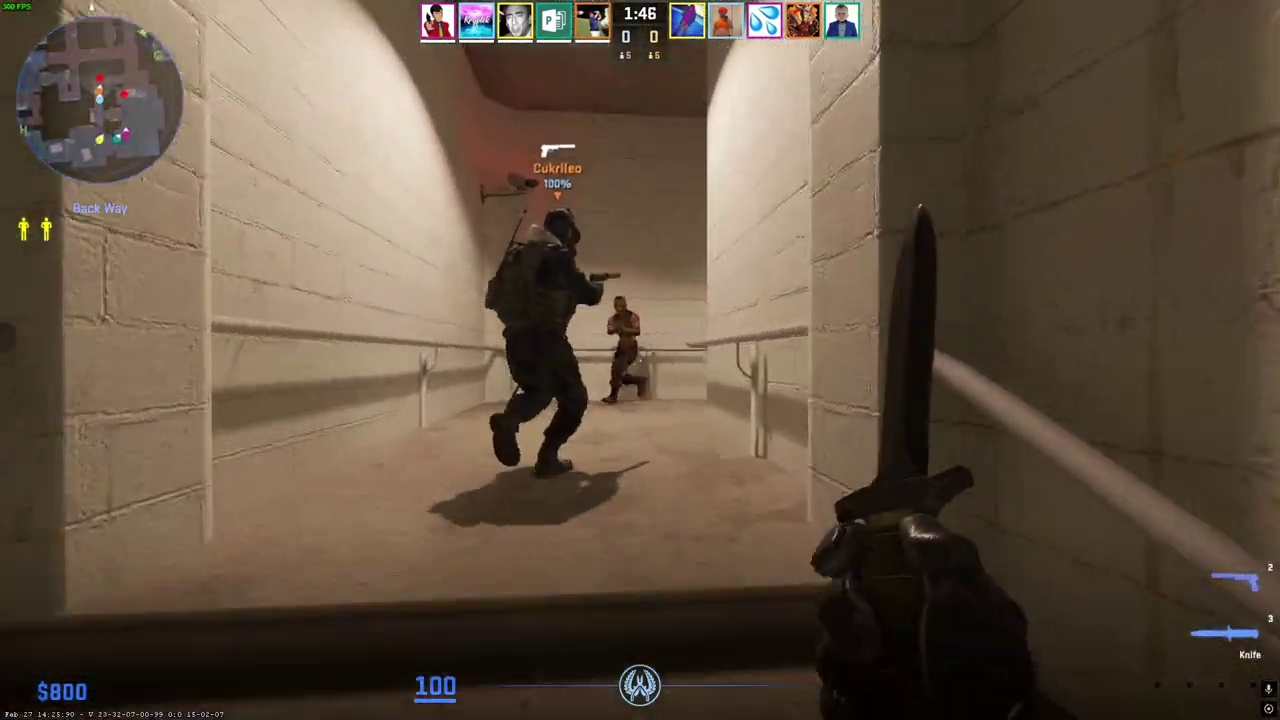CT: (487, 206, 597, 477)
Terrorist: (600, 294, 648, 404)
